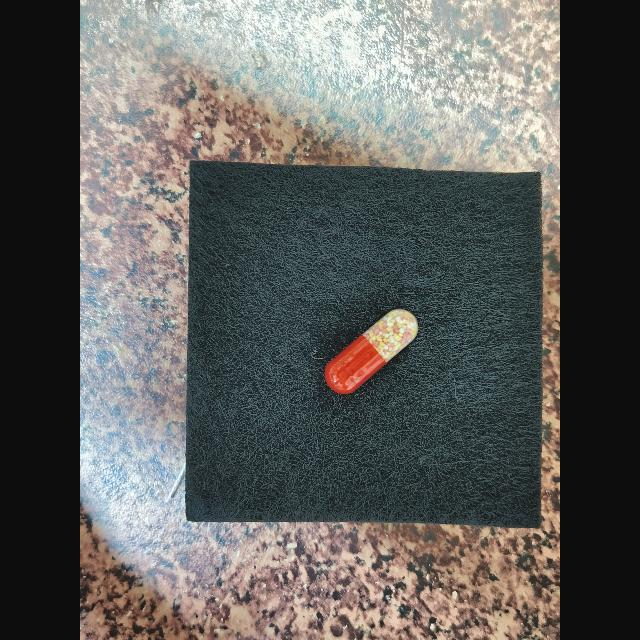Intact Capsule: (325, 309, 418, 394)
